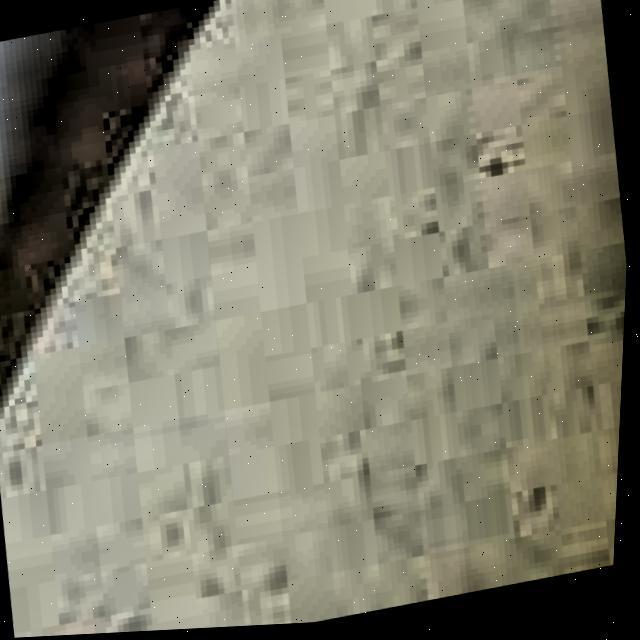paper: (0, 0, 630, 638)
